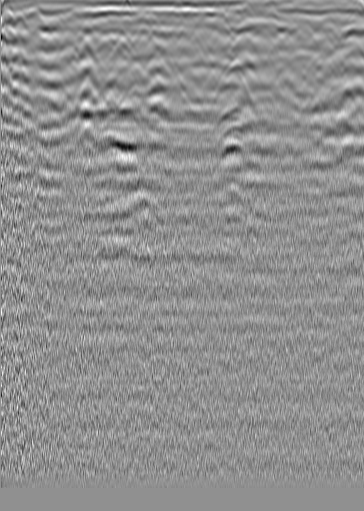가스: (214, 139, 261, 167)
상수: (318, 23, 338, 43)
오수: (25, 26, 45, 46)
우수: (145, 43, 165, 63)
